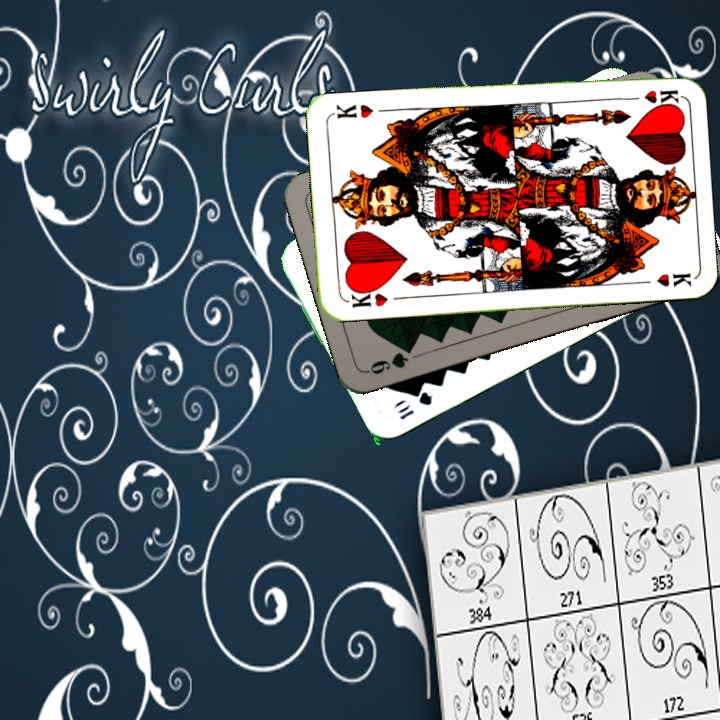G10: (388, 387, 435, 423)
G9: (362, 341, 417, 377)
HK: (343, 283, 390, 310), (620, 85, 680, 106)
